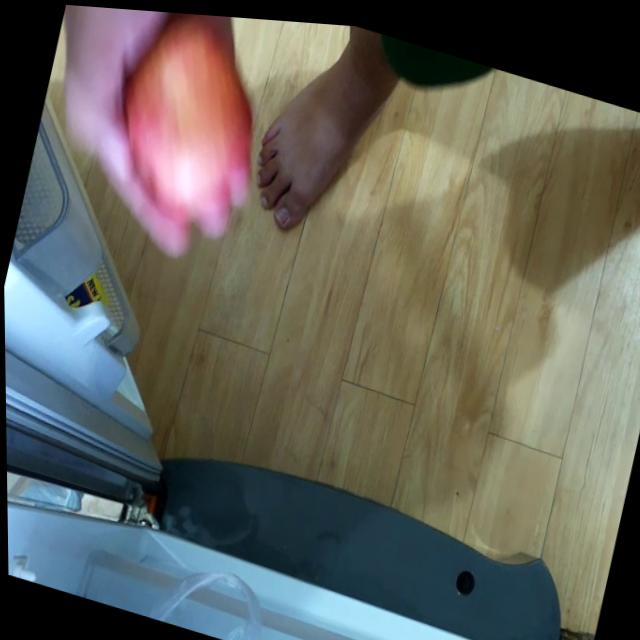apple: (99, 7, 281, 243)
